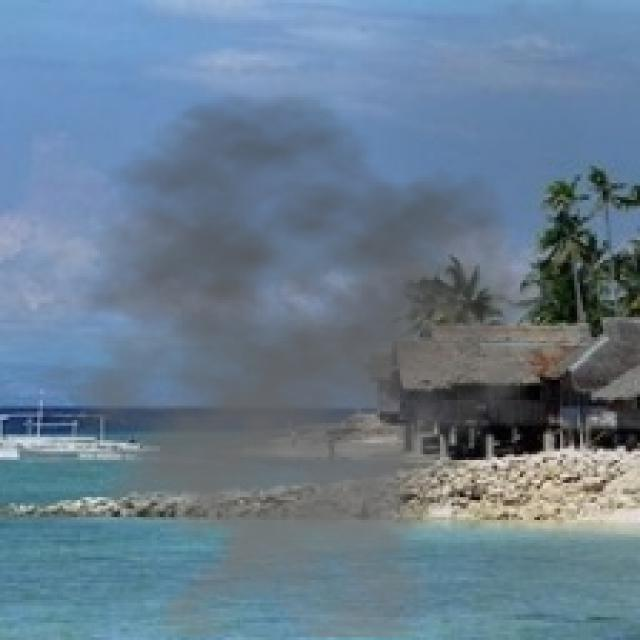smoke: (9, 92, 560, 637)
